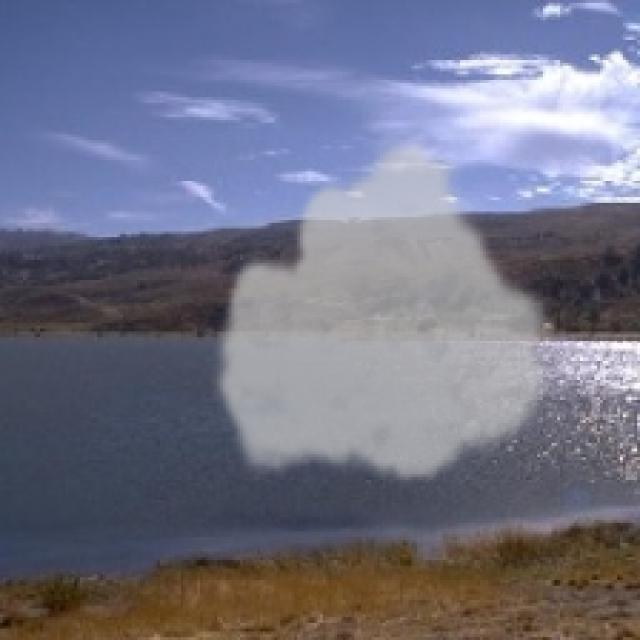Smoke: (211, 131, 560, 486)
